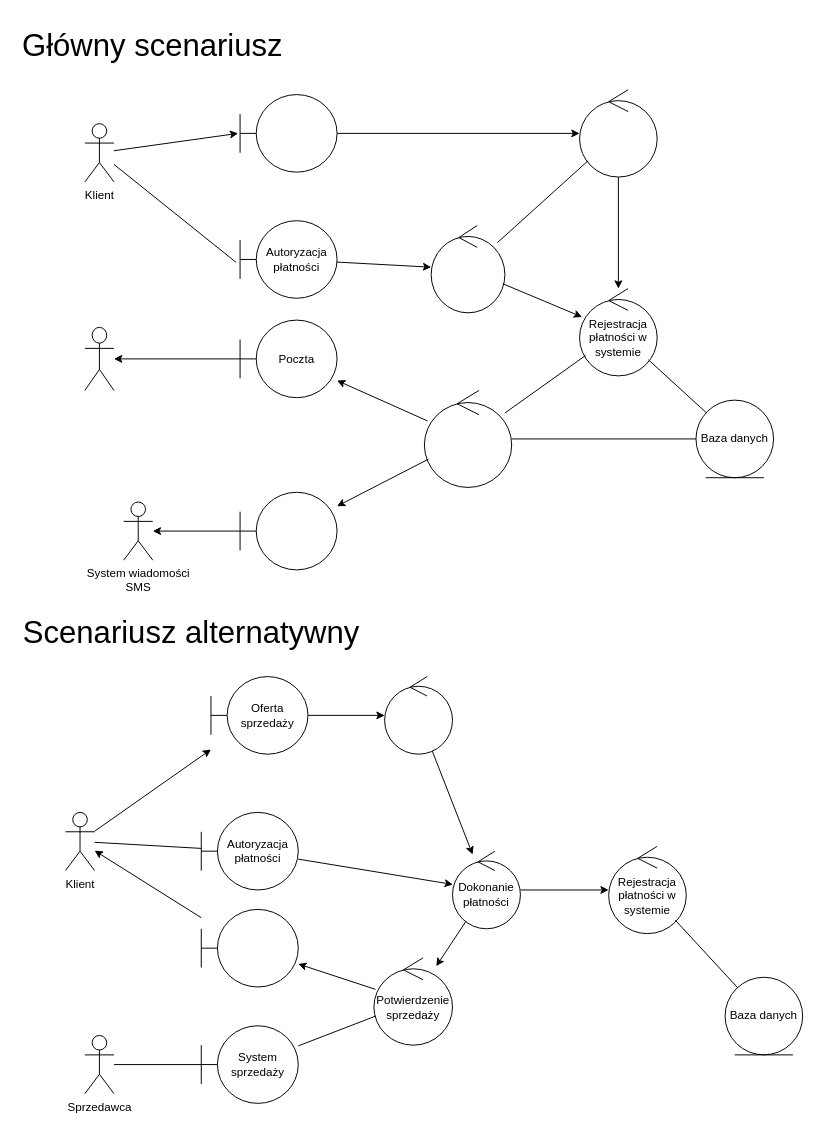
Image size: 820x1130. Some labels were removed from this diagram. Each missing label, with the centre of its shape:
"Bilet" belongs at point (249, 947).
"Formularz zakupu biletu" belongs at point (288, 133).
"Potwierdzenie kupna biletu" belongs at point (467, 438).
"Przetwarzanie danych" belongs at point (618, 133).
"Przetwarzanie płatności" belongs at point (467, 269).
"System poczty elektronicznej" belongs at point (99, 358).
"Wiadomości" belongs at point (288, 530).
"Wybór biletu" belongs at point (418, 715).
